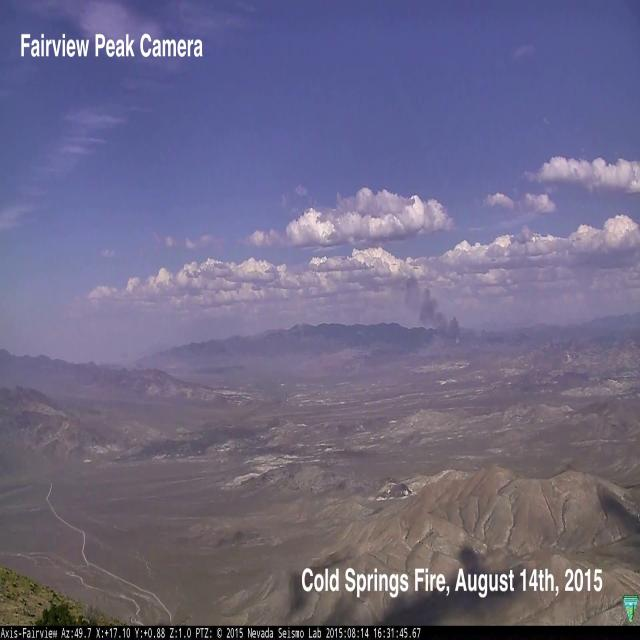smoke: (372, 274, 463, 342)
